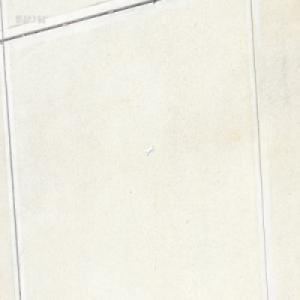Wrench: (145, 146, 153, 156)
